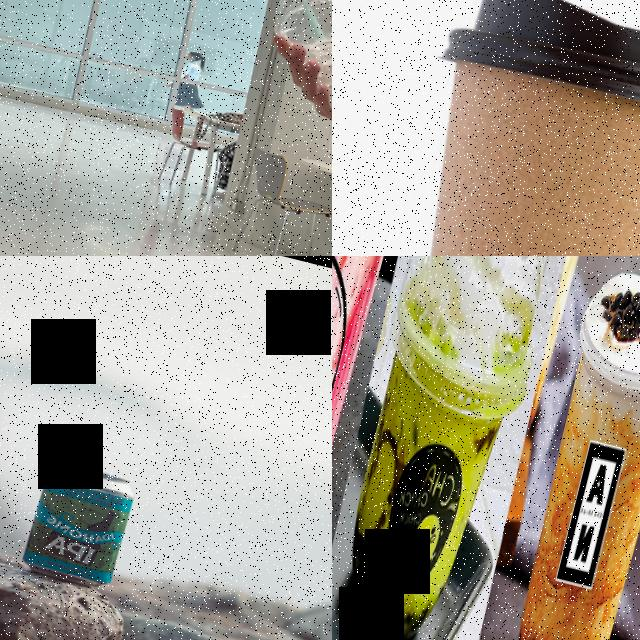can: (15, 452, 146, 598)
cup: (332, 256, 577, 640), (355, 0, 640, 256), (486, 264, 640, 640), (332, 256, 434, 570), (249, 0, 332, 153)
